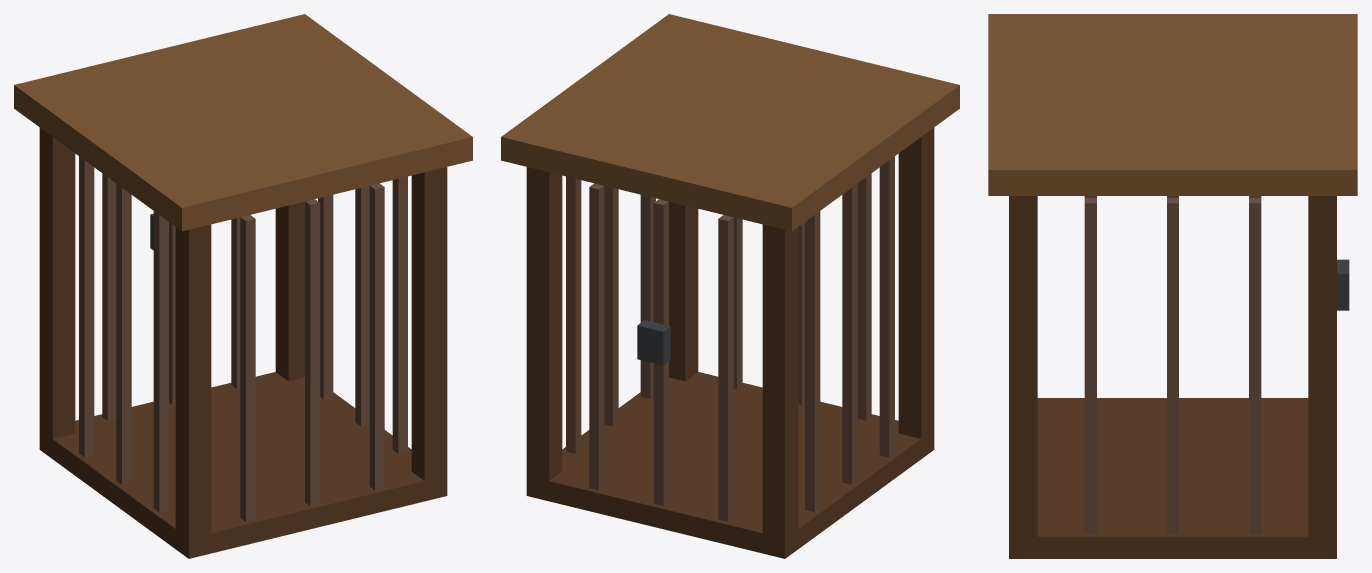
The model's file is PR_Cage.fbx.
3 views of the same model, side by side, from view 1: azimuth 30°, elevation 25°; view 2: azimuth 150°, elevation 25°; view 3: azimuth 270°, elevation 25° (orthographic). The views are drawn at different scales.
Visible parts, largest first — view 1: PR_Cage; view 2: PR_Cage; view 3: PR_Cage.
Part boxes in pixels (x1=…): PR_Cage: x1=14, y1=14, x2=472, y2=558; PR_Cage: x1=501, y1=14, x2=959, y2=558; PR_Cage: x1=988, y1=14, x2=1357, y2=558.
Bounding box in the file's own units: 1.8 × 1.8 × 2.14.
